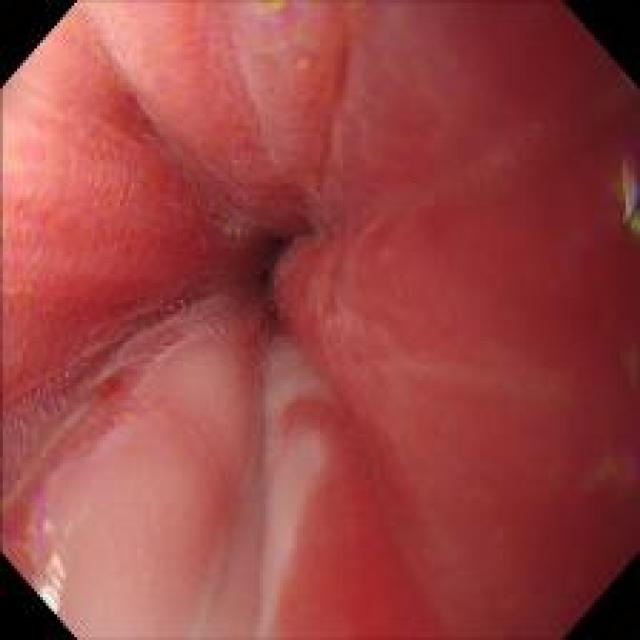blur: (66, 69, 485, 480)
color misalignment: (21, 498, 71, 608), (611, 149, 638, 239), (244, 2, 296, 32)
specularity: (40, 551, 65, 609)
